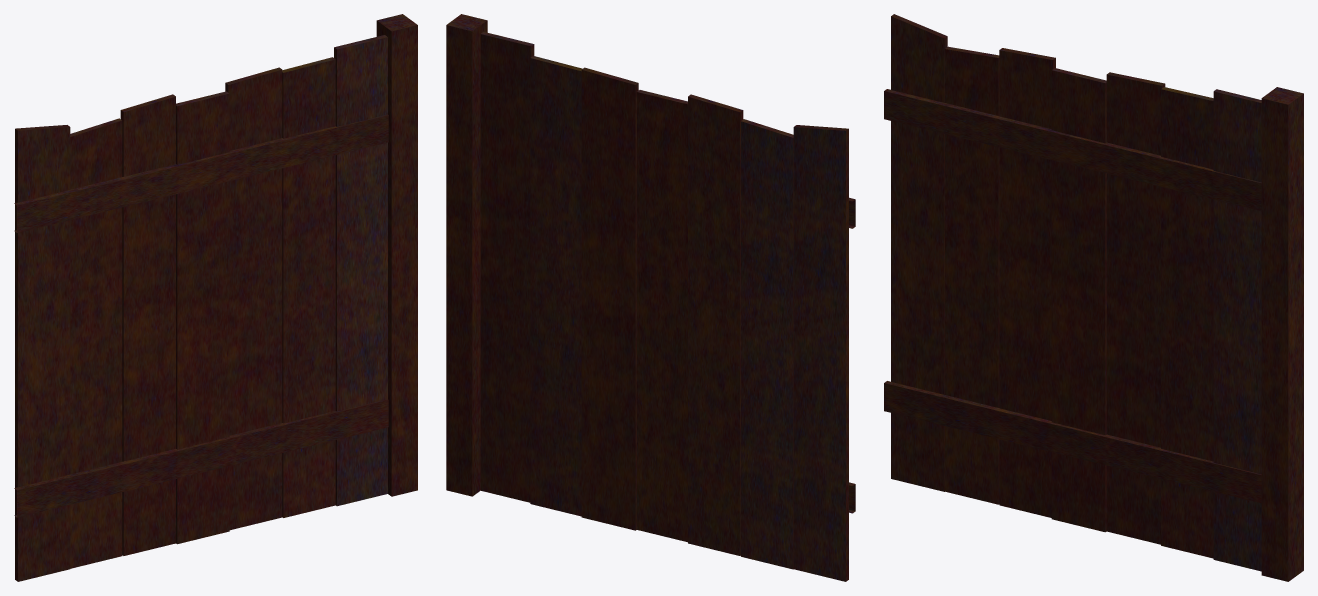
The model's file is Wood_2.FBX.
3 views of the same model, side by side, from view 1: azimuth 30°, elevation 25°; view 2: azimuth 150°, elevation 25°; view 3: azimuth 330°, elevation 25° (orthographic). The views are drawn at different scales.
Visible parts, largest first — view 1: Wood_2; view 2: Wood_2; view 3: Wood_2.
Boxes of the visible parts, box(x1,y1,x2,y2) form: Wood_2: box(14, 14, 417, 581); Wood_2: box(446, 14, 855, 581); Wood_2: box(884, 14, 1303, 581).
Size of the model in its own units: 76 by 85 by 5.
